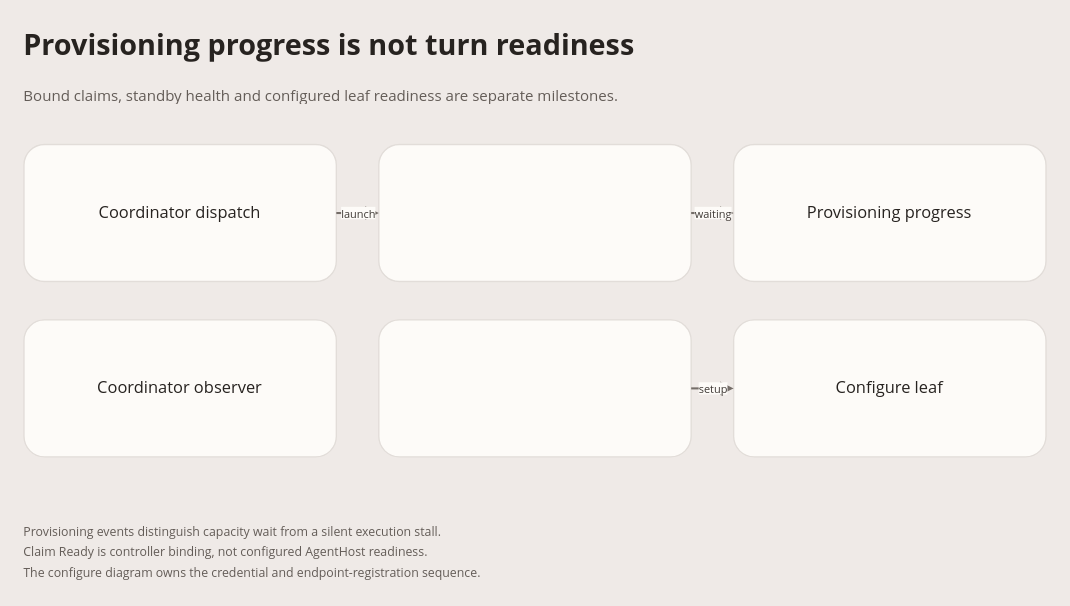
Some shapes in this 1070 by 606 pixel diagram are drawn without their labels. Each missing label, with the centre of its shape:
Child executor: the point at 534,212
Claim bound: the point at 534,388
